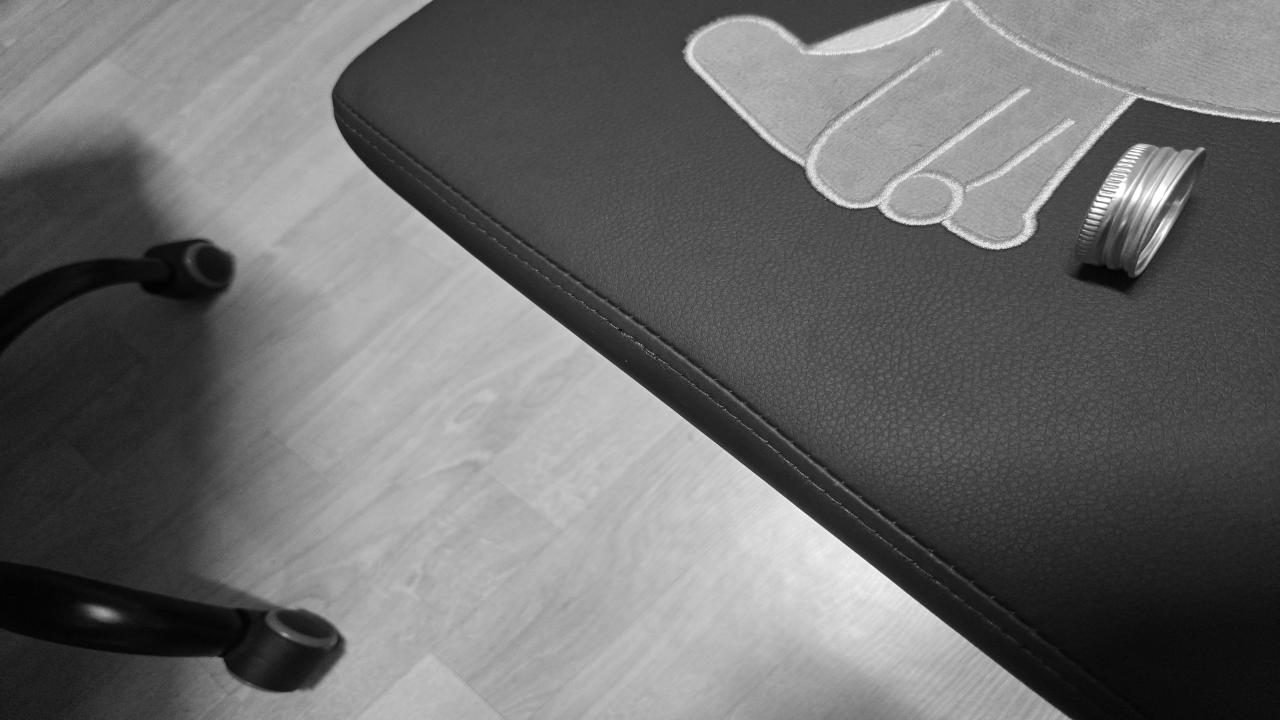bottle_cap: (1078, 147, 1198, 272)
